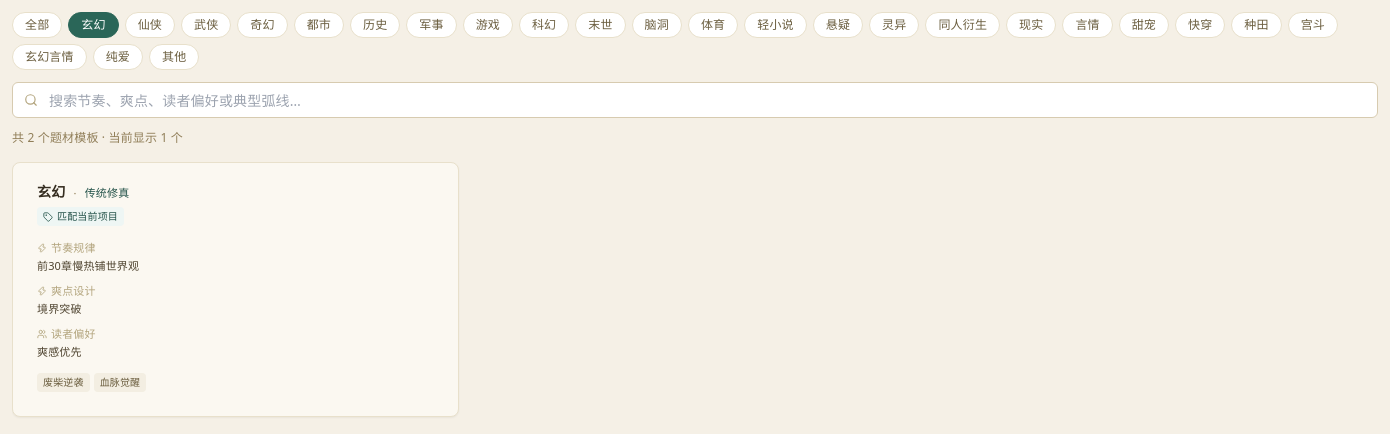
it: GenreTemplateList › 关键词搜索过滤模板
Expected: the text "传统修真" is shown, [85,185,129,201]
先切到全部，避免题材过滤干扰关键词验证
Click the button "全部". click: (37, 25)
box: [12,12,62,38]
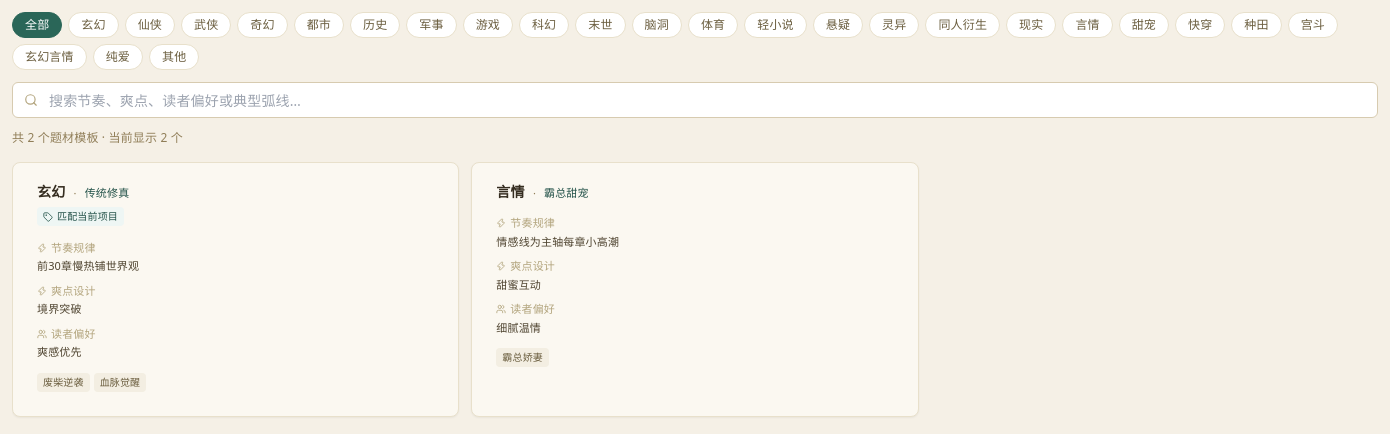
Result: the text "霸总甜宠" is shown at [544,185,589,201]
Type "情感" into the field with placeholder "搜索节奏、爽点、读者偏好或典型弧线…". click: (695, 100)
box: [12,82,1378,118]
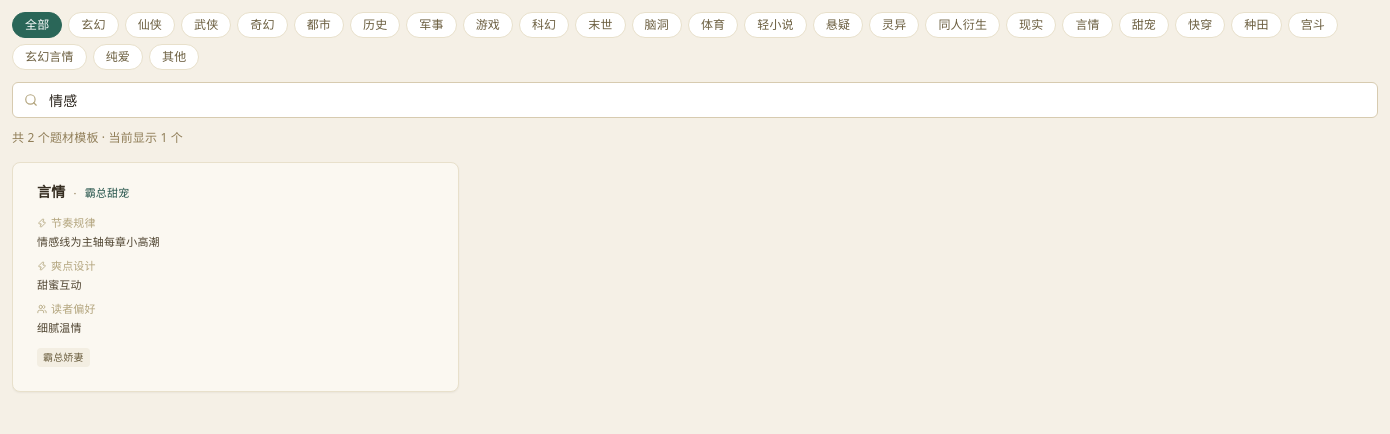
Result: the text "霸总甜宠" is shown at [85,185,129,201]
Result: the text "传统修真" is gone
Replace the text in the field with placeholder "搜索节奏、爽点、读者偏好或典型弧线…" with "不存在的词". click: (695, 100)
box: [12,82,1378,118]
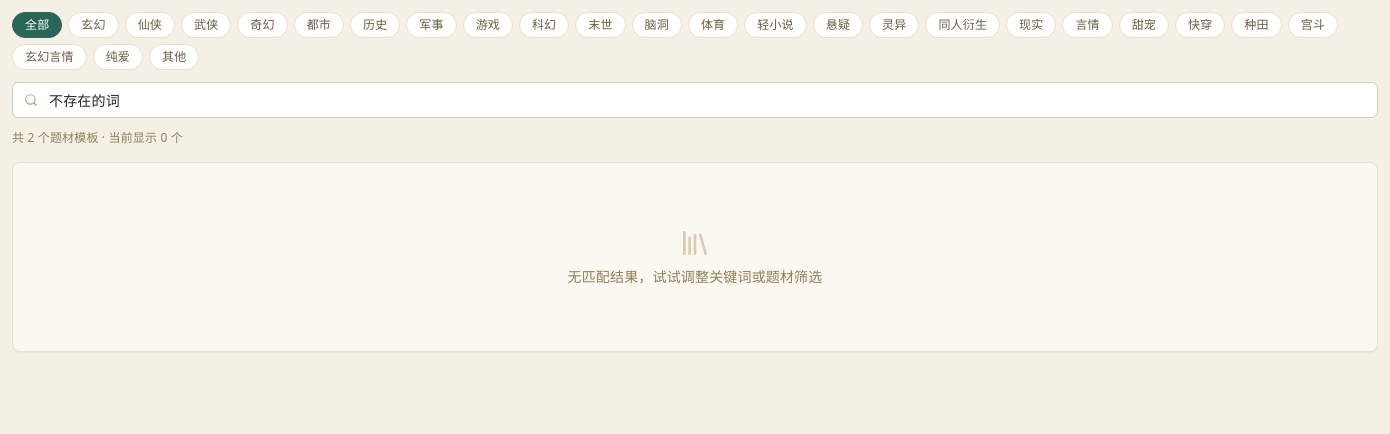
Result: the text "无匹配结果，试试调整关键词或题材筛选" is shown at [568,267,822,287]
